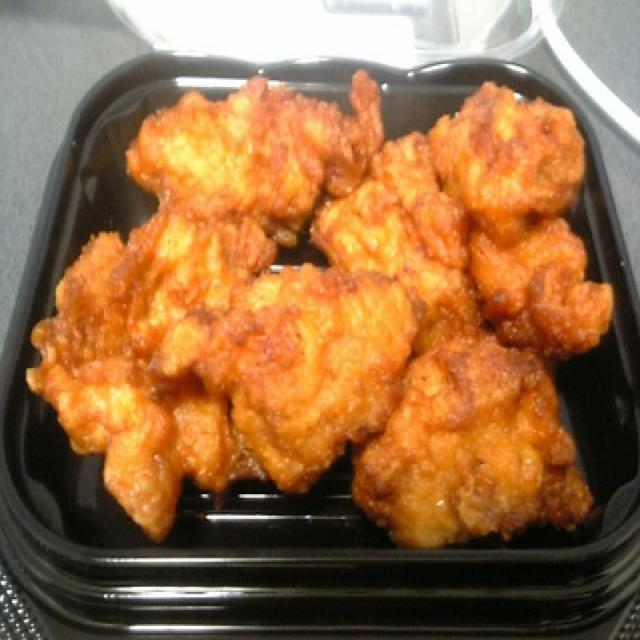鸡肉料理 含炸鸡: (48, 77, 624, 550)
